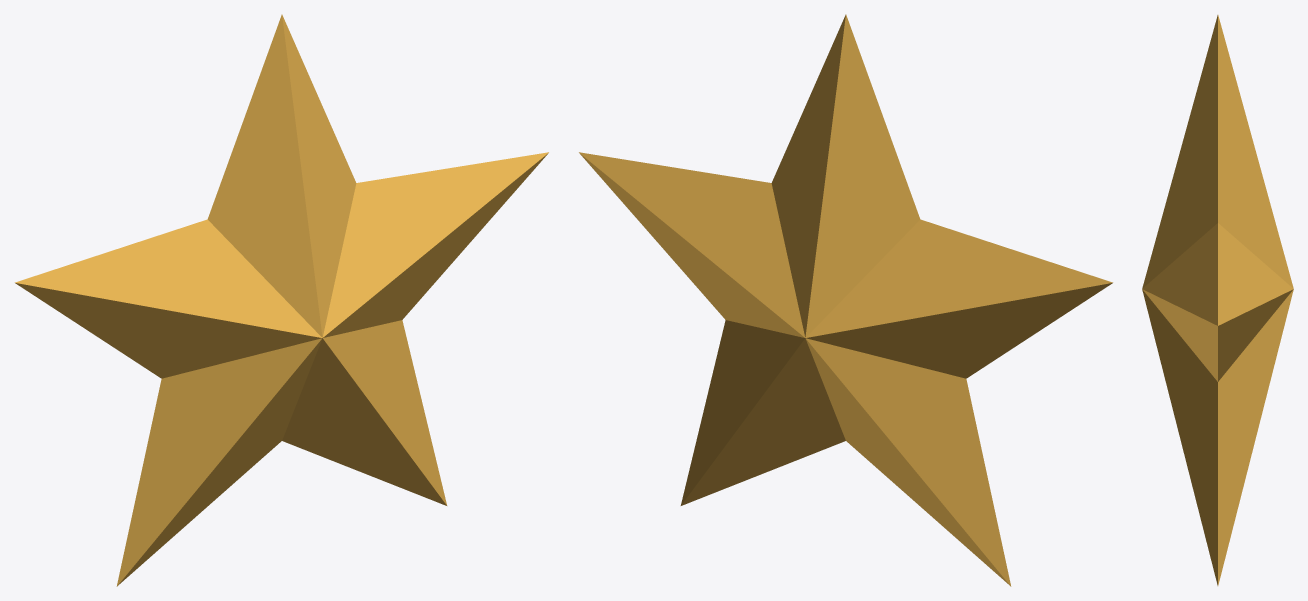
File: 03 Star Ornament.glb
3 renders of one model, left to right at view 1: azimuth 30°, elevation 25°; view 2: azimuth 150°, elevation 25°; view 3: azimuth 270°, elevation 25°, orthographic. The views are drawn at different scales.
Visible parts, largest first — view 1: Faceted star; view 2: Faceted star; view 3: Faceted star.
Part boxes in pixels (bbox=[...]): Faceted star: bbox=[15, 14, 548, 586]; Faceted star: bbox=[579, 14, 1112, 586]; Faceted star: bbox=[1142, 15, 1293, 585].
Bounding box in the file's own units: 1.9 × 1.81 × 0.5.
